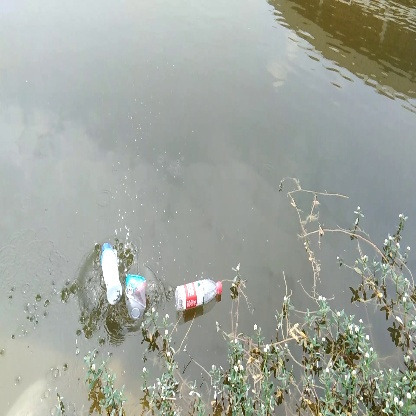bottle: (171, 273, 223, 315)
